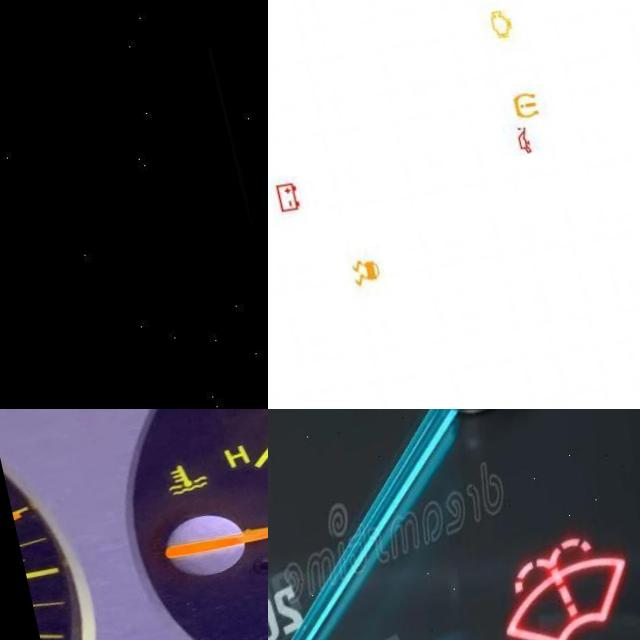High Engine Coolant Temperature: (149, 463, 196, 508)
Washer Fluid: (466, 546, 614, 640)
